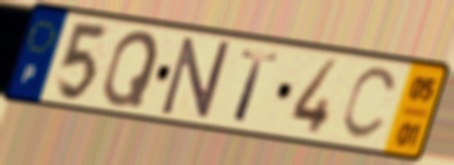4: (285, 56, 342, 139)
5: (50, 19, 115, 104)
C: (337, 65, 401, 144)
N: (158, 35, 233, 122)
Q: (99, 28, 163, 109)
T: (231, 47, 282, 125)
